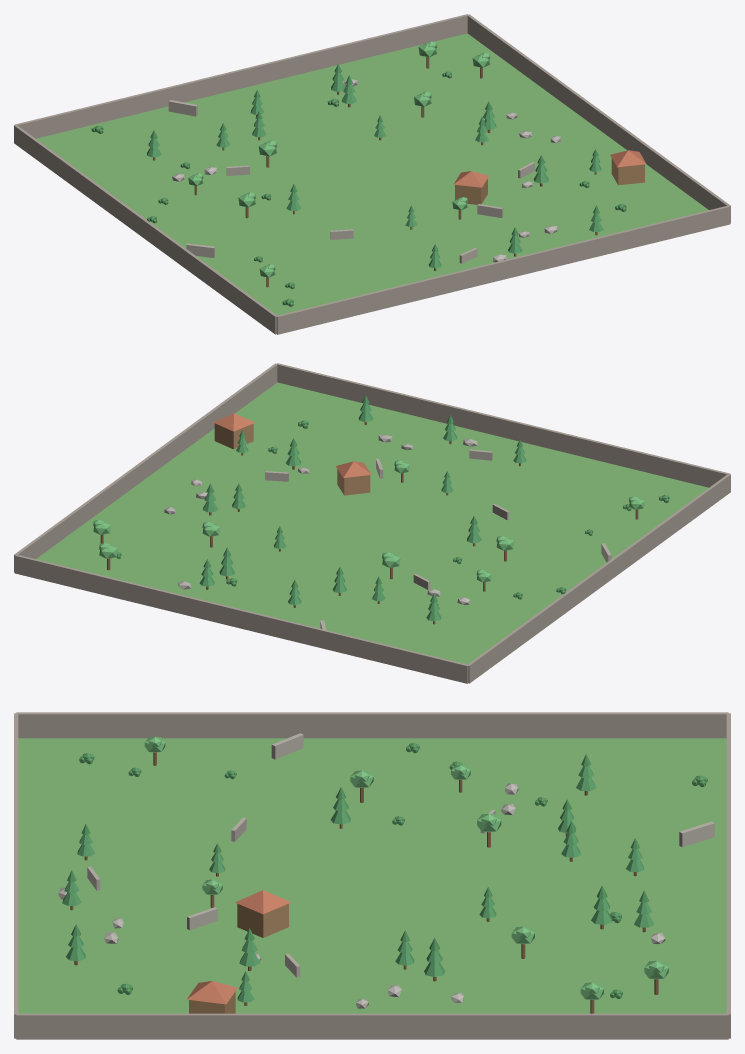
The model's file is map.glb.
The picture shows the model from 3 angles, top to bottom: view 1: azimuth 30°, elevation 25°; view 2: azimuth 150°, elevation 25°; view 3: azimuth 270°, elevation 25°; orthographic projection. The views are drawn at different scales.
Parts seen in each view (by area): view 1: Ground, Wall_S, Wall_N, Wall_W, Wall_E, Shed.001, Shed; view 2: Ground, Wall_N, Wall_S, Wall_W, Wall_E, Shed.001, Shed; view 3: Ground, Wall_E, Wall_W, Wall_N, Wall_S, Shed, Roof.001, Roof, Shed.001, LowWall, LowWall.006.
Part boxes in pixels (bbox=[...]): Ground: bbox=[36, 33, 708, 315]; Wall_S: bbox=[276, 205, 730, 334]; Wall_N: bbox=[15, 14, 467, 138]; Wall_W: bbox=[14, 125, 277, 334]; Wall_E: bbox=[467, 14, 730, 223]; Shed.001: bbox=[611, 158, 644, 185]; Shed: bbox=[455, 178, 487, 204]; Ground: bbox=[36, 382, 708, 664]; Wall_N: bbox=[14, 554, 468, 683]; Wall_S: bbox=[276, 363, 729, 487]; Wall_W: bbox=[467, 474, 730, 683]; Wall_E: bbox=[14, 363, 277, 572]; Shed.001: bbox=[214, 423, 253, 449]; Shed: bbox=[337, 469, 370, 495]; Ground: bbox=[18, 738, 726, 1013]; Wall_E: bbox=[16, 1013, 728, 1039]; Wall_W: bbox=[16, 712, 728, 738]; Wall_N: bbox=[726, 713, 730, 1038]; Wall_S: bbox=[14, 713, 18, 1038]; Shed: bbox=[237, 903, 288, 937]; Roof.001: bbox=[187, 981, 237, 1004]; Roof: bbox=[235, 890, 290, 914]; Shed.001: bbox=[189, 991, 235, 1013]; LowWall: bbox=[679, 821, 714, 847]; LowWall.006: bbox=[271, 733, 303, 759].
Bounding box in the file's own units: 80.5 × 5.46 × 80.5.
